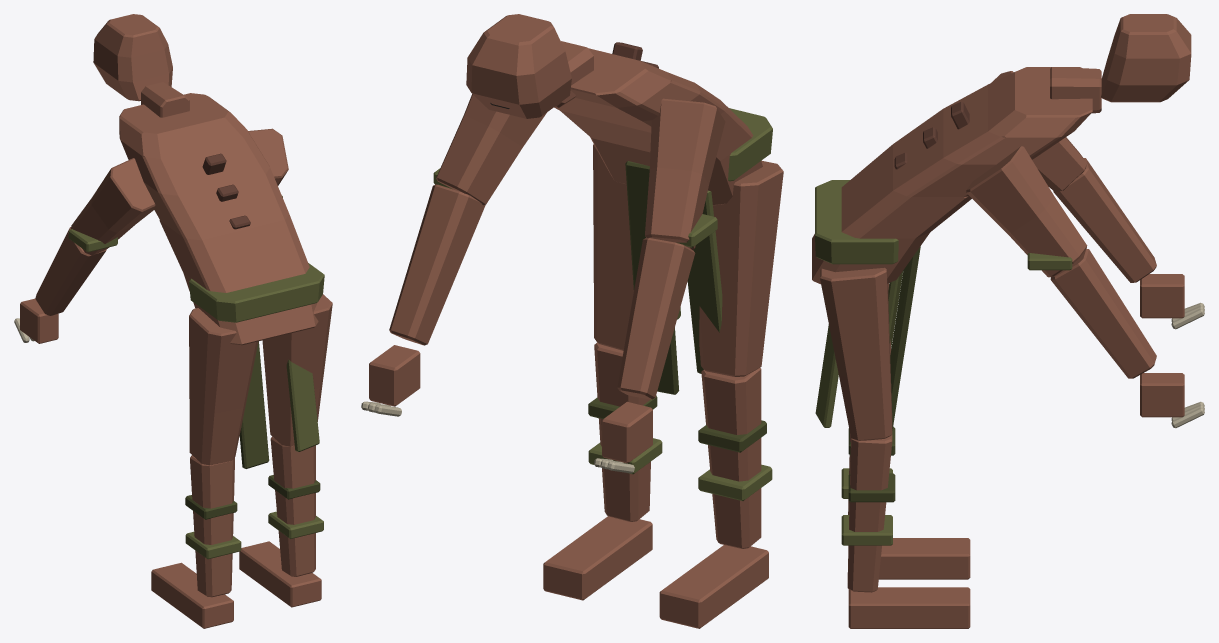
File: mdl_mon_runner_normal_v1.glb
3 views of the same model, side by side, from view 1: azimuth 30°, elevation 25°; view 2: azimuth 150°, elevation 25°; view 3: azimuth 270°, elevation 25° (orthographic). The views are drawn at different scales.
Visible parts, largest first — view 1: GEO_Mon_Body, GEO_Mon_Gear; view 2: GEO_Mon_Body, GEO_Mon_Gear; view 3: GEO_Mon_Body, GEO_Mon_Gear.
Part boxes in pixels (x1,y1,x2,y2): GEO_Mon_Body: (14,14,332,628); GEO_Mon_Gear: (68,196,324,559); GEO_Mon_Body: (361,14,783,628); GEO_Mon_Gear: (433,108,772,501); GEO_Mon_Body: (812,14,1204,628); GEO_Mon_Gear: (815,180,1072,545).
Bounding box in the file's own units: 0.6616 × 1.59 × 0.9896.
